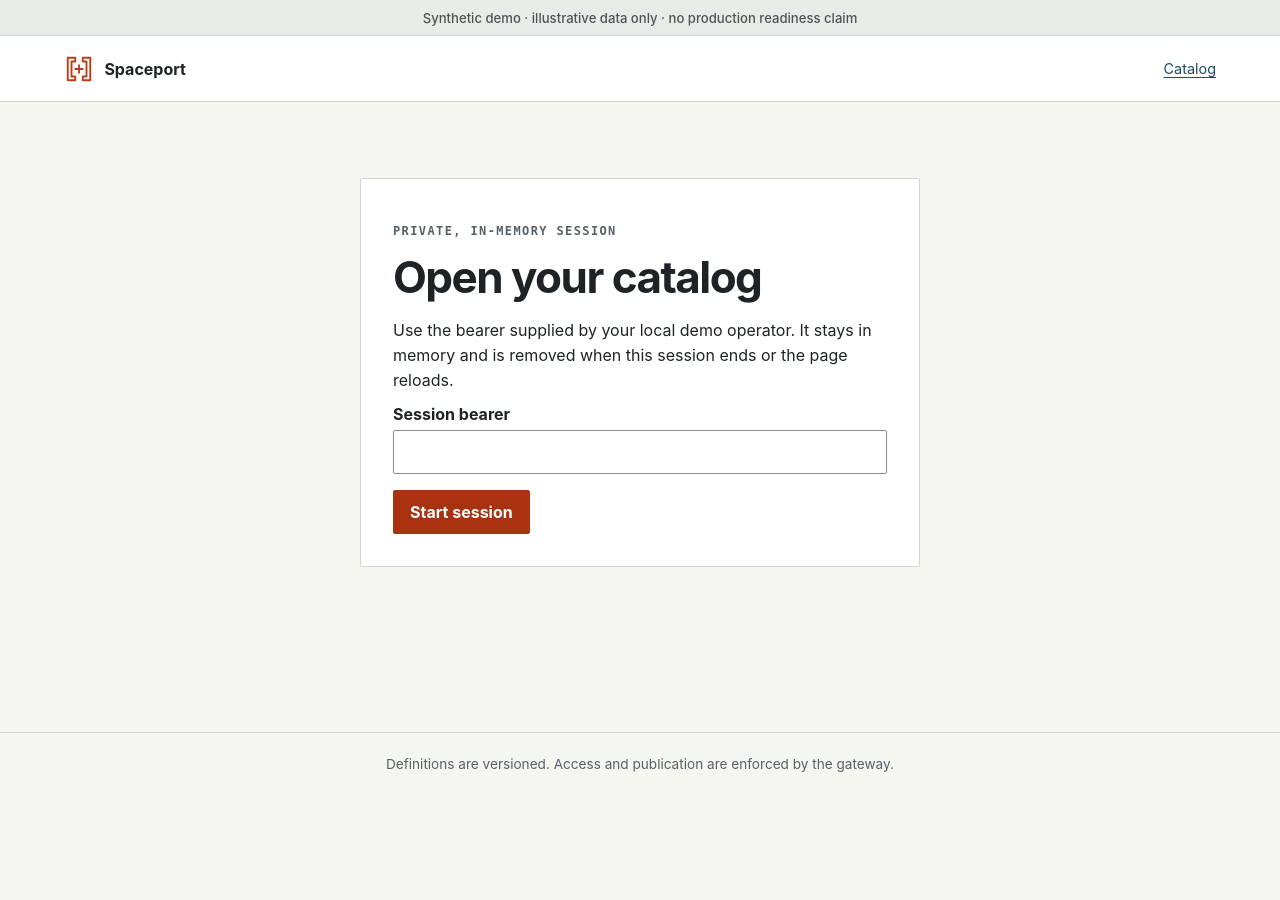
Test: uses decorative SVG icons without changing accessible action names
The image size is (1280, 900).
Expected: the icon is shown, [64, 54, 94, 84]
Expected: the link "Spaceport" does not show "▦", [64, 54, 186, 84]
Step 1. Type "synthetic-test" into the password field labelled "Session bearer" → (640, 452), box [393, 430, 887, 474]
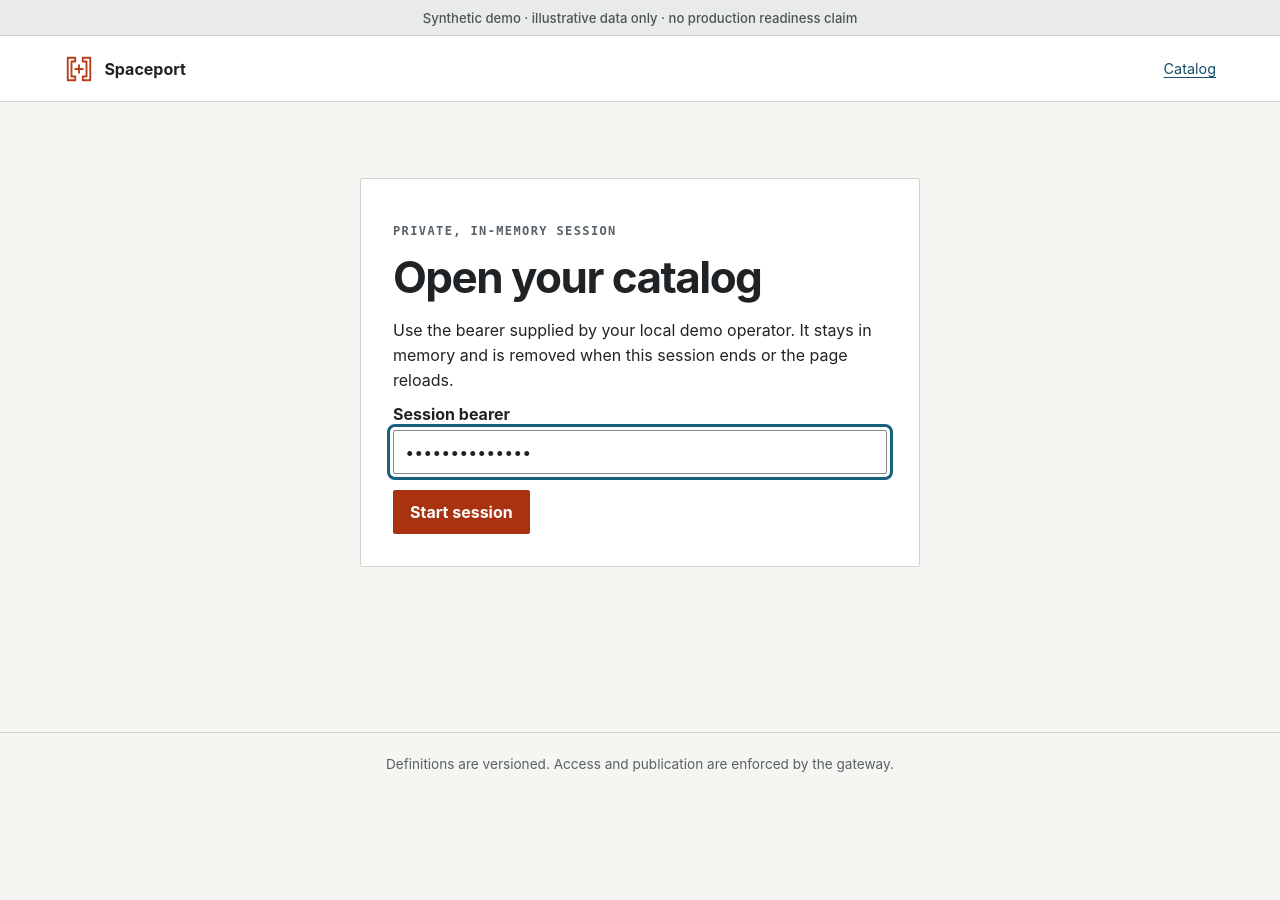
Step 2. Click the button "Start session" → click(461, 512), box [393, 490, 530, 534]
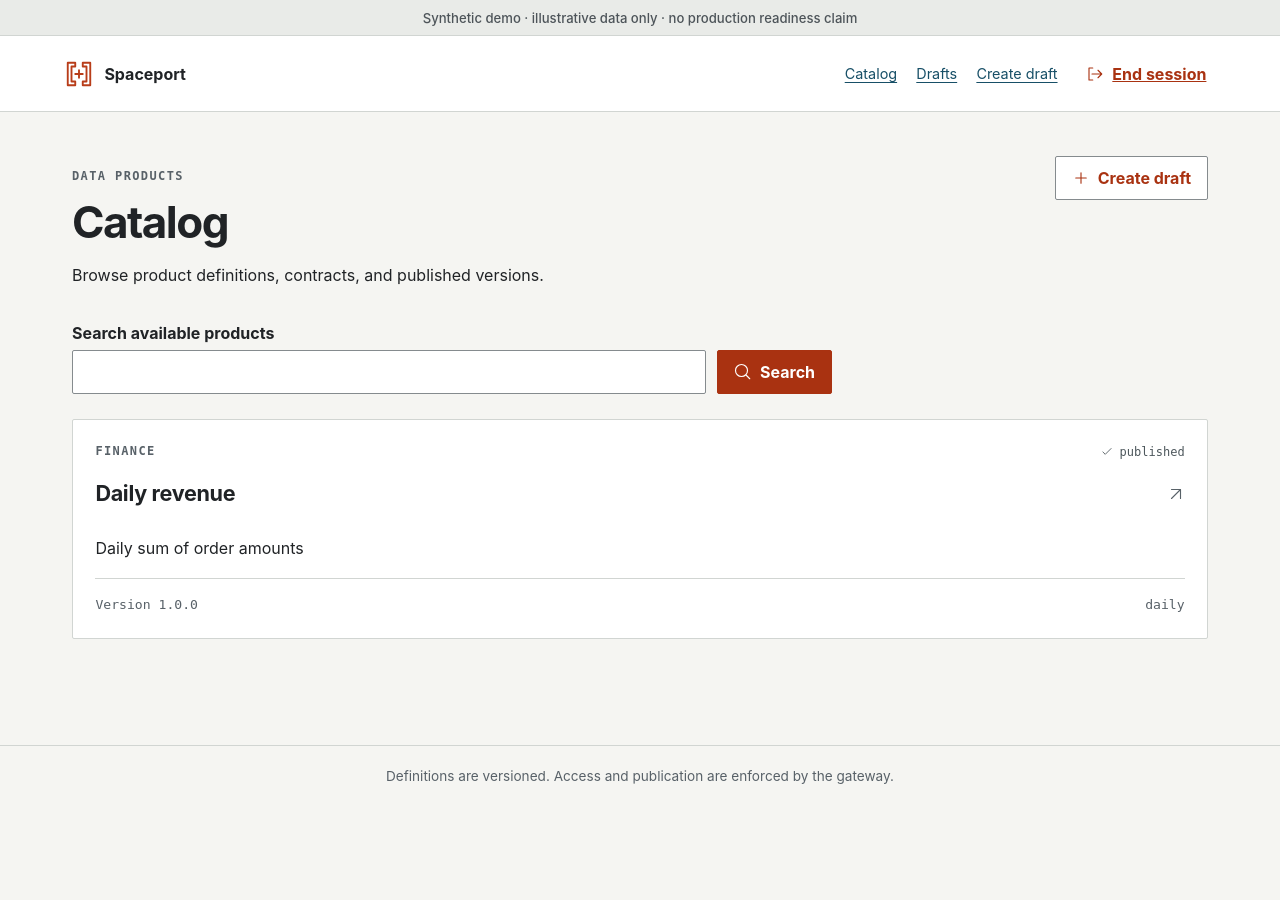
Expected: the icon in the row of "Daily revenue" is shown, [1167, 485, 1185, 503]
Expected: the 4th icon is shown, [734, 362, 752, 380]
Expected: the button "End session" is shown, [1077, 54, 1216, 94]
